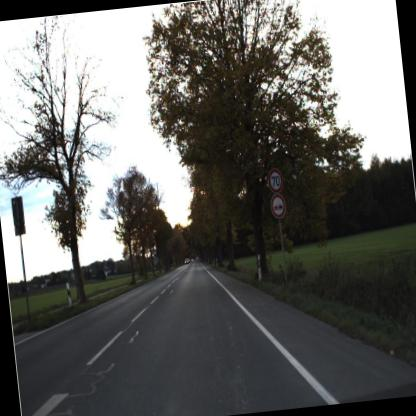prohibitory: (264, 165, 284, 194), (268, 191, 288, 220)
